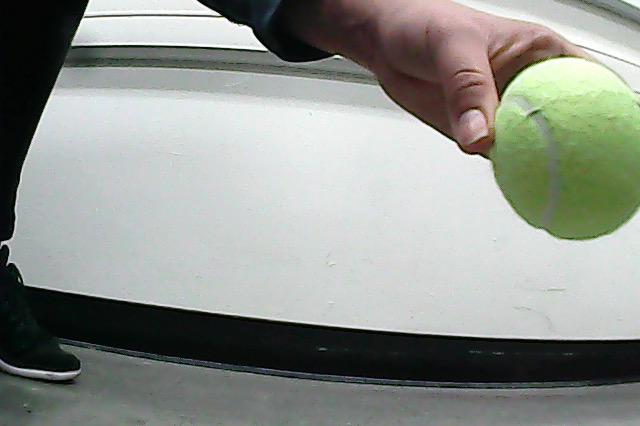ball: (491, 58, 640, 240)
